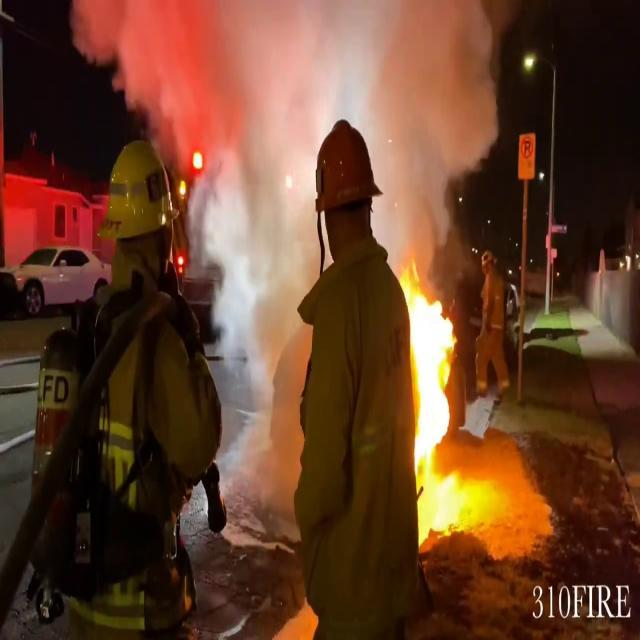Fire: (401, 256, 463, 486)
Smoke: (120, 1, 508, 262)
